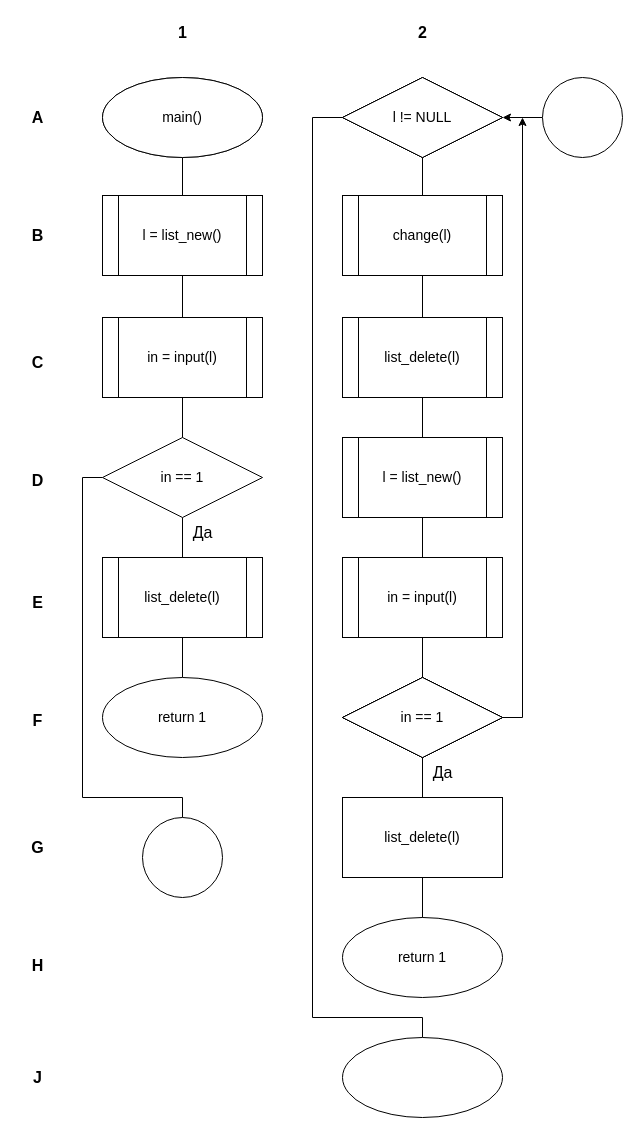
The diagram is 640 pixels wide and 1135 high, and some of its shapes have lost their labels. The centre of each missing label's shape, as x and y in pixels:
"A2" goes at [182,857].
"D1" goes at [582,117].
"return 0" goes at [422,1077].
